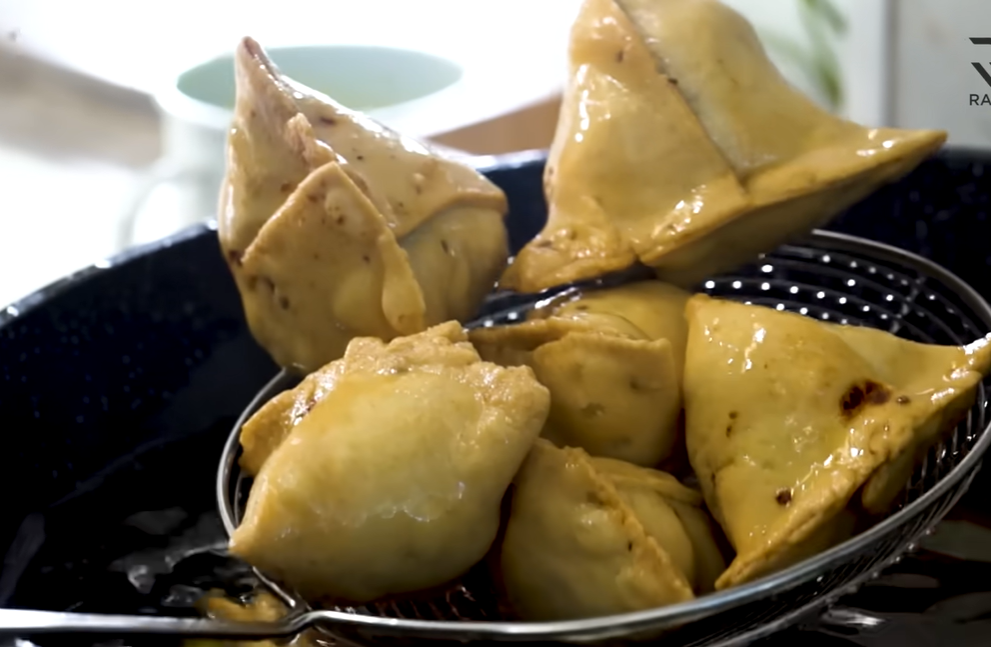samosa: (504, 0, 946, 293), (213, 30, 501, 350), (220, 319, 553, 583), (689, 289, 991, 580), (516, 431, 711, 627), (479, 291, 684, 457)
